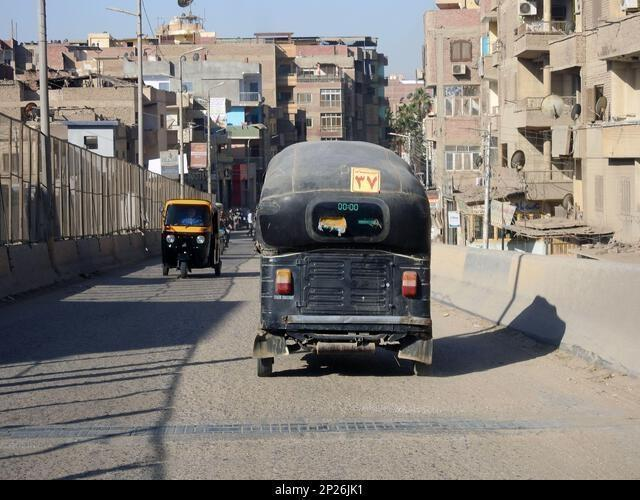keke: (253, 133, 438, 372), (162, 197, 223, 282)
